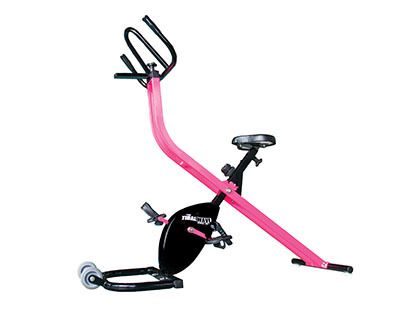gym_bike: (71, 11, 355, 294)
